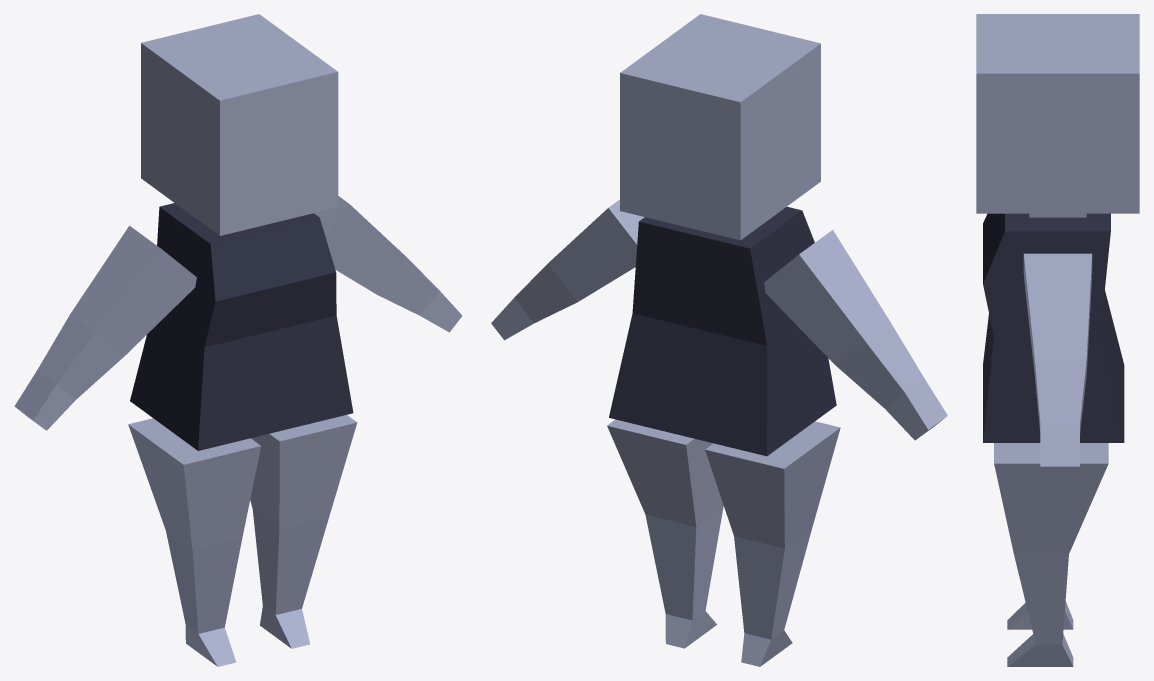
Rendered from C__VCp86.glb.
The picture shows the model from 3 angles, left to right: view 1: azimuth 30°, elevation 25°; view 2: azimuth 150°, elevation 25°; view 3: azimuth 270°, elevation 25°; orthographic projection. The views are drawn at different scales.
Visible parts, largest first — view 1: Body, Head, Leg_R, Leg_L, Arm_R, Arm_L; view 2: Body, Head, Leg_R, Arm_R, Leg_L, Arm_L; view 3: Head, Body, Leg_L, Arm_L, Leg_R, Neck.
Part boxes in pixels (x1,y1,x2,y2): Body: (130, 203, 353, 450); Head: (141, 14, 338, 235); Leg_R: (128, 418, 261, 666); Leg_L: (250, 415, 357, 648); Arm_R: (14, 225, 196, 430); Arm_L: (314, 196, 462, 332); Body: (609, 206, 836, 456); Head: (620, 14, 820, 240); Leg_R: (705, 421, 840, 666); Arm_R: (764, 230, 947, 440); Leg_L: (607, 419, 723, 648); Arm_L: (491, 199, 644, 340); Head: (976, 14, 1139, 213); Body: (983, 213, 1124, 442); Leg_L: (994, 443, 1108, 666); Arm_L: (1023, 253, 1092, 474); Leg_R: (1007, 601, 1073, 629); Neck: (1029, 213, 1086, 217).
Bounding box in the file's own units: 1.16 × 1.5 × 0.37.
